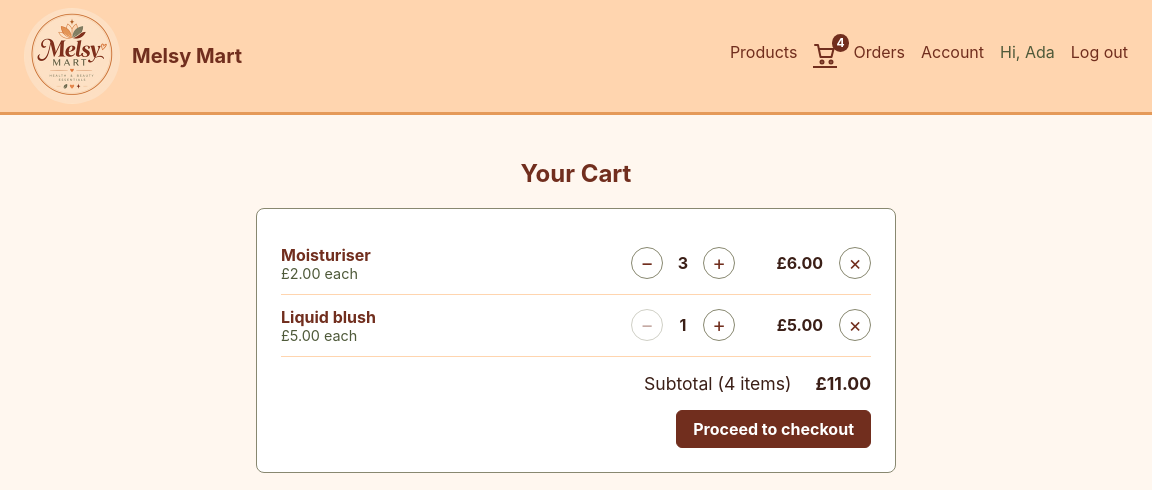
Test case: × removes the item
This screenshot has width=1152, height=490.
Expected: the text "Liquid blush" is shown, [281,307,376,327]
Click the button "×" in the row of "Liquid blush": point(855, 325) [839,309,871,341]
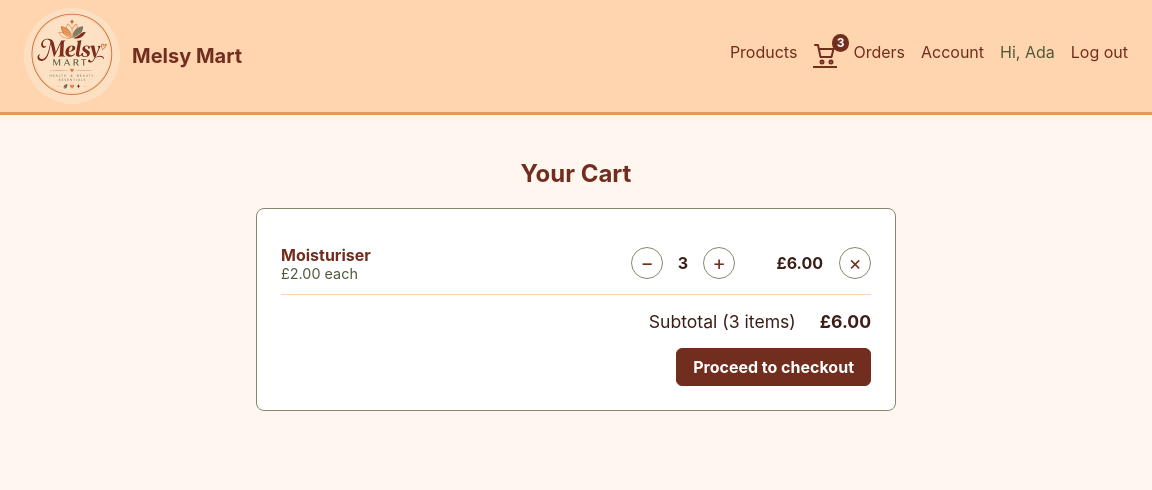
Now the text "Subtotal (3 items)" is shown, box [649,311,796,332]
Now the text "Liquid blush" is gone
